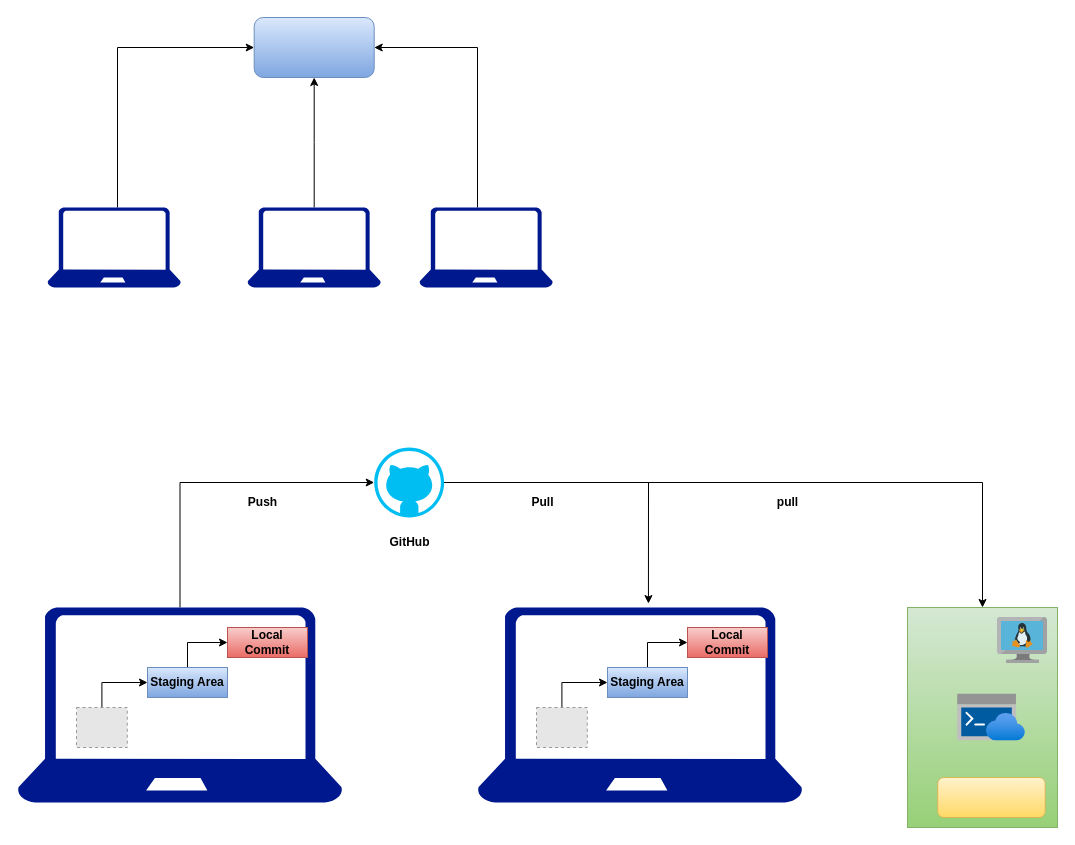
This 1075x845 diagram has some shape labels left out. Grey dashed boxes stand in for pictures. The centre of each missing label's shape, as x and y in pixels:
"No Edits" goes at point (991, 797).
"SVN" goes at point (313, 47).
